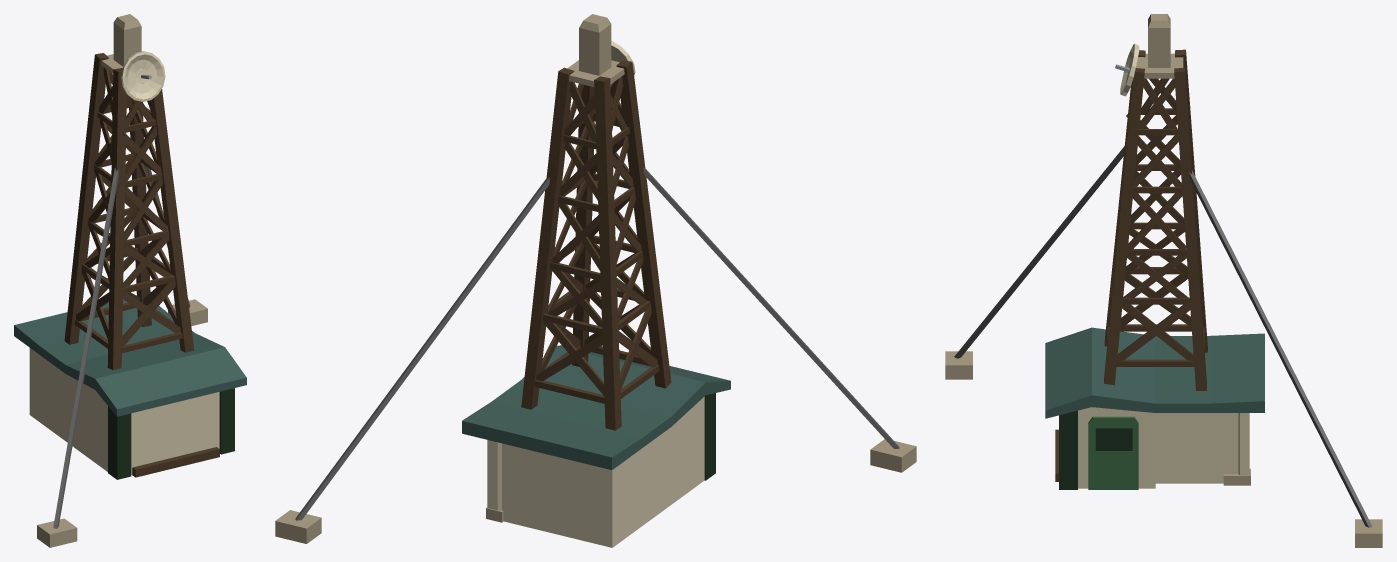
Rendered from radiotower.glb.
3 views of the same model, side by side, from view 1: azimuth 30°, elevation 25°; view 2: azimuth 150°, elevation 25°; view 3: azimuth 270°, elevation 25° (orthographic). The views are drawn at different scales.
Parts seen in each view (by area): view 1: Cube.087, Cube.085, Cube.093, Cube.092, Cube.090, Cube.148, Cube.140, Cube.144, Cube.091, Cube.094, Cube.143, Cube.088 (+16 smaller); view 2: Cube.085, Cube.087, Cube.092, Cube.091, Cube.093, Cube.146, Cube.148, Cube.090, Cube.094, Cube.095, Cube.147, Cube.149 (+4 smaller); view 3: Cube.087, Cube.085, Cube.091, Cube.090, Cube.145, Cube.146, Cube.148, Cube.143, Cube.094, Cube.092, Cube.095, Cube.101 (+11 smaller).
Part boxes in pixels (bbox=[...]): Cube.087: bbox=[14, 295, 246, 416]; Cube.085: bbox=[29, 348, 219, 474]; Cube.093: bbox=[107, 68, 126, 369]; Cube.092: bbox=[64, 53, 108, 344]; Cube.090: bbox=[149, 89, 194, 352]; Cube.148: bbox=[53, 168, 118, 528]; Cube.140: bbox=[121, 51, 165, 101]; Cube.144: bbox=[108, 406, 131, 479]; Cube.091: bbox=[129, 99, 151, 327]; Cube.094: bbox=[113, 14, 141, 66]; Cube.143: bbox=[219, 388, 234, 454]; Cube.088: bbox=[132, 447, 219, 477]; Cube.085: bbox=[487, 396, 704, 547]; Cube.087: bbox=[462, 345, 730, 469]; Cube.092: bbox=[594, 76, 621, 430]; Cube.091: bbox=[521, 67, 574, 409]; Cube.093: bbox=[616, 60, 671, 388]; Cube.146: bbox=[295, 177, 549, 520]; Cube.148: bbox=[643, 167, 899, 448]; Cube.090: bbox=[572, 85, 594, 366]; Cube.094: bbox=[579, 14, 611, 75]; Cube.095: bbox=[534, 345, 659, 403]; Cube.147: bbox=[275, 510, 321, 543]; Cube.149: bbox=[870, 439, 916, 472]; Cube.087: bbox=[1045, 327, 1264, 418]; Cube.085: bbox=[1078, 407, 1249, 488]; Cube.091: bbox=[1174, 68, 1206, 390]; Cube.090: bbox=[1104, 68, 1144, 385]; Cube.145: bbox=[1088, 416, 1138, 489]; Cube.146: bbox=[1189, 170, 1372, 527]; Cube.148: bbox=[954, 146, 1124, 358]; Cube.143: bbox=[1059, 410, 1077, 489]; Cube.094: bbox=[1148, 14, 1170, 67]; Cube.092: bbox=[1175, 49, 1207, 352]; Cube.095: bbox=[1107, 324, 1204, 366]; Cube.101: bbox=[1117, 301, 1190, 361].
Bounding box in the file's own units: 26.55 × 29.98 × 26.91.
